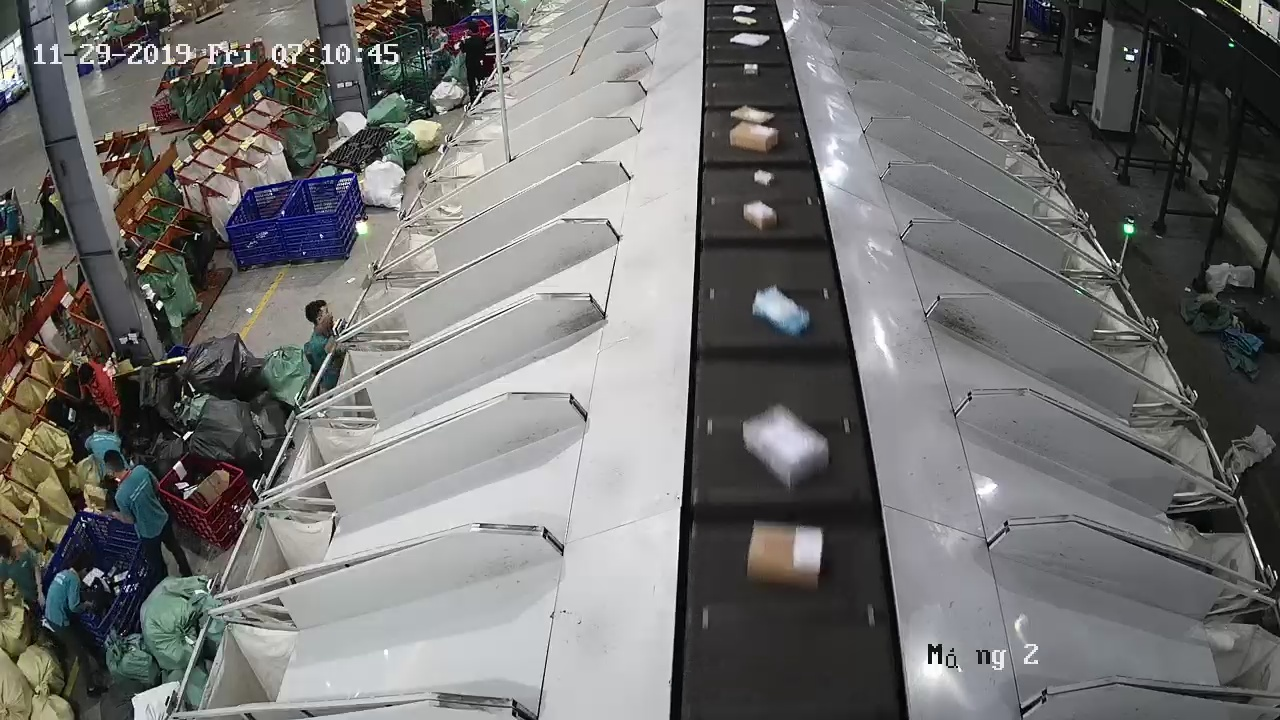parcel: (742, 408, 829, 488), (745, 519, 824, 592), (751, 285, 811, 337), (729, 122, 779, 152), (743, 200, 777, 230), (753, 169, 775, 187)
